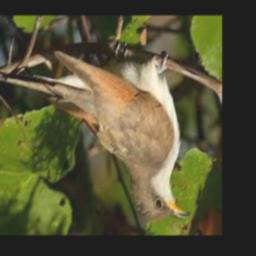Cuckoo: (51, 51, 190, 221)
